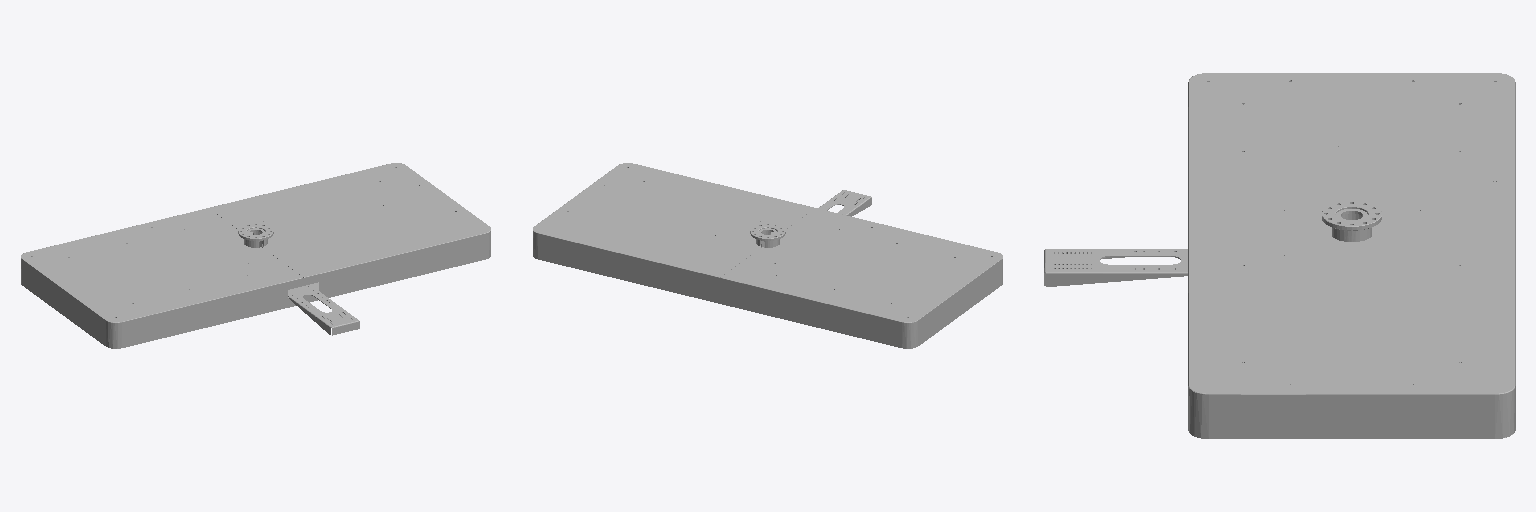
robot.urdf — COVER2:
<?xml version="1.0" encoding="utf-8"?>
<!-- This URDF was automatically created by SolidWorks to URDF Exporter! Originally created by [author] ([email redacted]) 
     Commit Version: 1.6.0-1-g15f4949  Build Version: 1.6.7594.29634
     For more information, please see http://wiki.ros.org/sw_urdf_exporter -->
<robot
  name="COVER2">
  <link
    name="tool">
    <inertial>
      <origin
        xyz="-2.1726E-05 -0.029011 -0.046633"
        rpy="0 0 0" />
      <mass
        value="34.023" />
      <inertia
        ixx="1.9293"
        ixy="-4.0975E-05"
        ixz="3.0182E-05"
        iyy="4.6908"
        iyz="-0.00019488"
        izz="6.5648" />
    </inertial>
    <visual>
      <origin
        xyz="0 0 0"
        rpy="0 0 0" />
      <geometry>
        <mesh
          filename="package://COVER2/meshes/tool.STL" />
      </geometry>
      <material
        name="">
        <color
          rgba="0.75294 0.75294 0.75294 1" />
      </material>
    </visual>
    <collision>
      <origin
        xyz="0 0 0"
        rpy="0 0 0" />
      <geometry>
        <mesh
          filename="package://COVER2/meshes/tool.STL" />
      </geometry>
    </collision>
  </link>
</robot>

--- Render facts (derived) ---
3 views of the same robot in one strip: view 1: azimuth 30°, elevation 25°; view 2: azimuth 150°, elevation 25°; view 3: azimuth 270°, elevation 25° (orthographic).
Robot: COVER2 — 1 links, 0 joints (none); root link tool; default pose: all joints at 0.
Visible links, largest first — view 1: tool; view 2: tool; view 3: tool.
Link boxes in pixels (x1=…): tool: x1=21, y1=163, x2=490, y2=348; tool: x1=533, y1=163, x2=1002, y2=348; tool: x1=1044, y1=73, x2=1515, y2=438.
Size in the robot's own frame: 1.86 by 1.15 by 0.175 metres.
Meshes: 1 distinct files referenced, 1 mesh visuals loaded (1 binary STL).